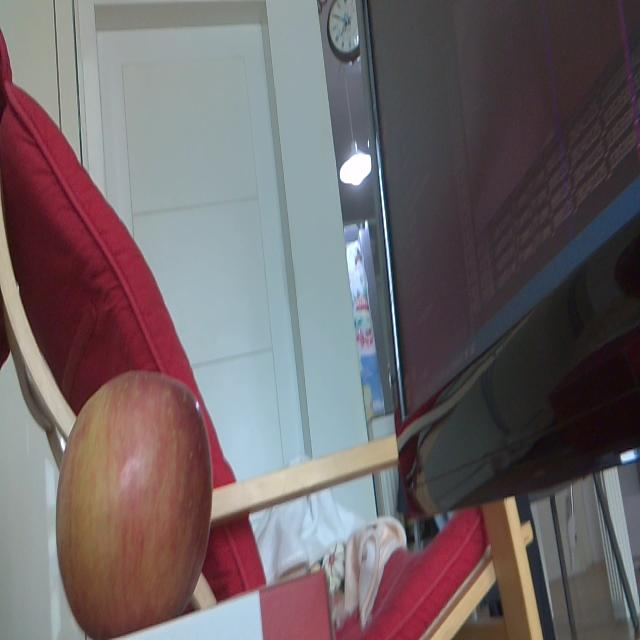apple: (54, 371, 214, 636)
